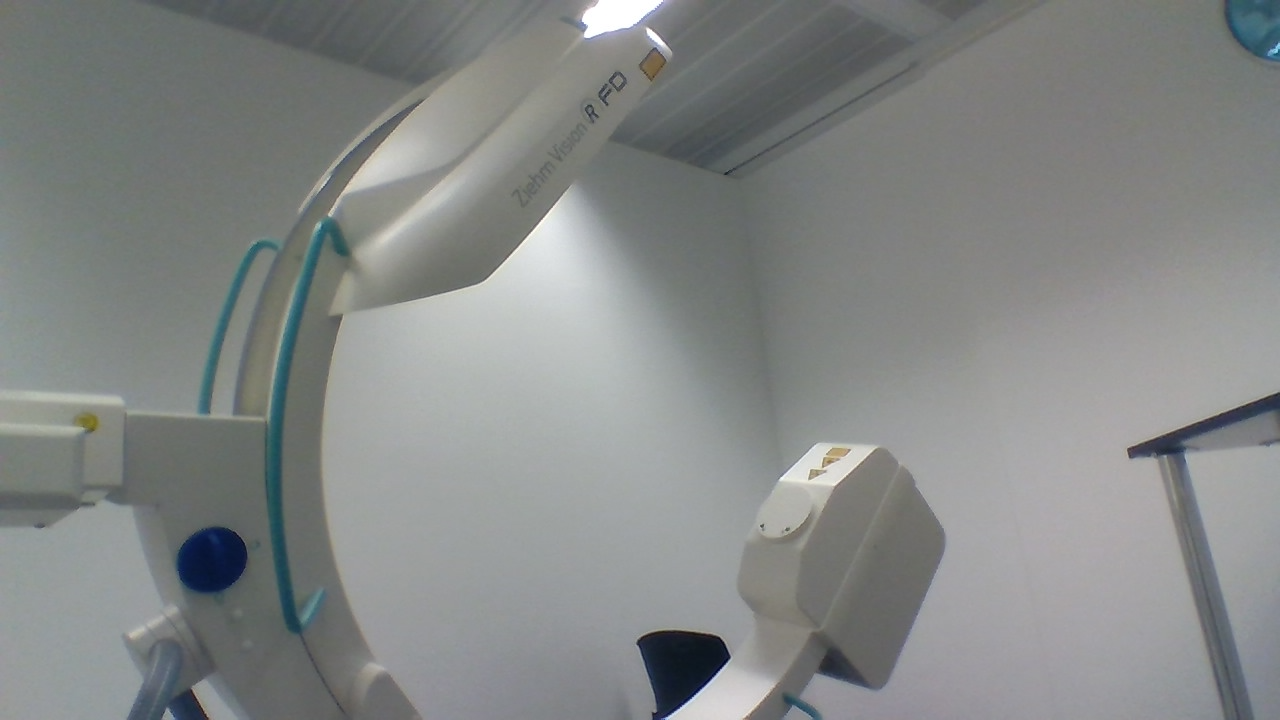carmDOWN: (733, 440, 900, 630)
carmLOCK: (176, 521, 249, 595)
carmUP: (309, 19, 673, 319)
